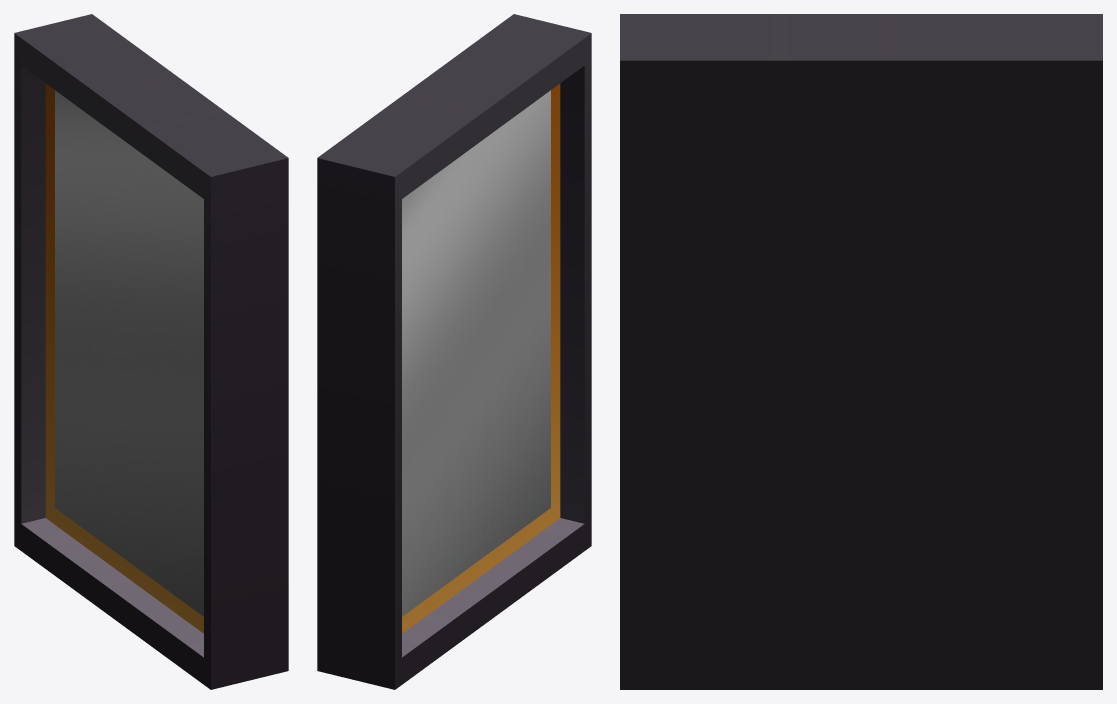
File: TSP_Bathroom_Wall_Mirror_02B.fbx
3 renders of one model, left to right at view 1: azimuth 30°, elevation 25°; view 2: azimuth 150°, elevation 25°; view 3: azimuth 270°, elevation 25°, orthographic. The views are drawn at different scales.
Parts seen in each view (by area): view 1: TSP_Bathroom_Wall_Mirror_02B; view 2: TSP_Bathroom_Wall_Mirror_02B; view 3: TSP_Bathroom_Wall_Mirror_02B.
Boxes of the visible parts, bbox=[...] form: TSP_Bathroom_Wall_Mirror_02B: bbox=[14, 14, 288, 689]; TSP_Bathroom_Wall_Mirror_02B: bbox=[317, 14, 591, 689]; TSP_Bathroom_Wall_Mirror_02B: bbox=[620, 14, 1102, 689].
Bounding box in the file's own units: 0.16 × 1.01 × 0.7.
